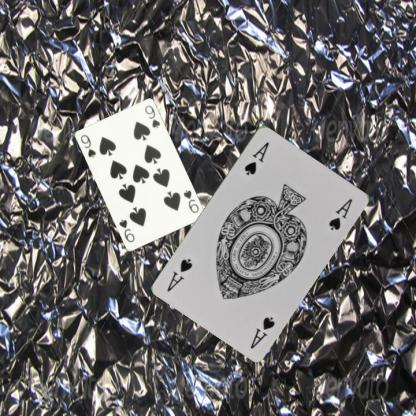9s: (180, 188, 200, 214), (78, 132, 97, 158)
As: (242, 138, 271, 176), (247, 313, 276, 350)
